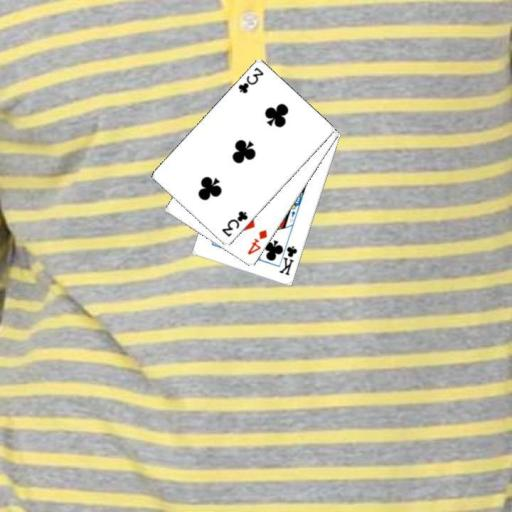3C: (218, 208, 250, 239), (235, 64, 265, 95)
4D: (244, 227, 269, 257)
KC: (275, 238, 299, 277)
